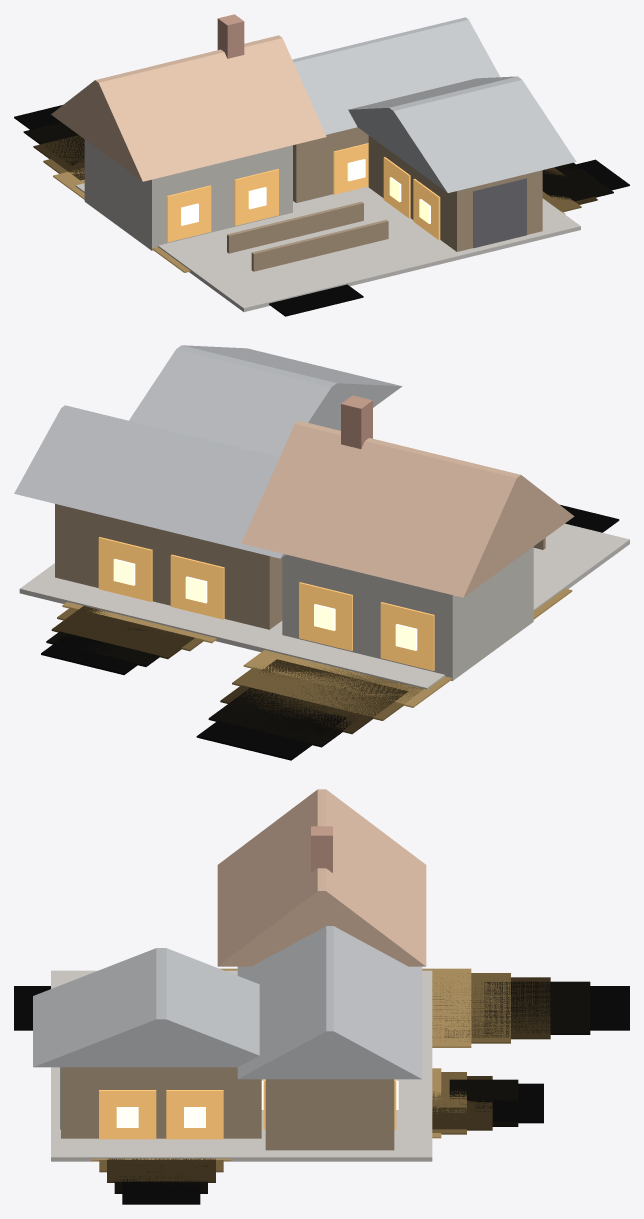
File: plc_livestock_farm.glb
The picture shows the model from 3 angles, top to bottom: view 1: azimuth 30°, elevation 25°; view 2: azimuth 150°, elevation 25°; view 3: azimuth 270°, elevation 25°; orthographic projection. The views are drawn at different scales.
Visible parts, largest first — view 1: plc_livestock_farm; view 2: plc_livestock_farm; view 3: plc_livestock_farm.
Part boxes in pixels (<box>): plc_livestock_farm: <box>14,14,629,316</box>; plc_livestock_farm: <box>14,345,629,760</box>; plc_livestock_farm: <box>14,789,629,1204</box>.
Size of the model in its own units: 2.47 by 0.9486 by 2.61.
